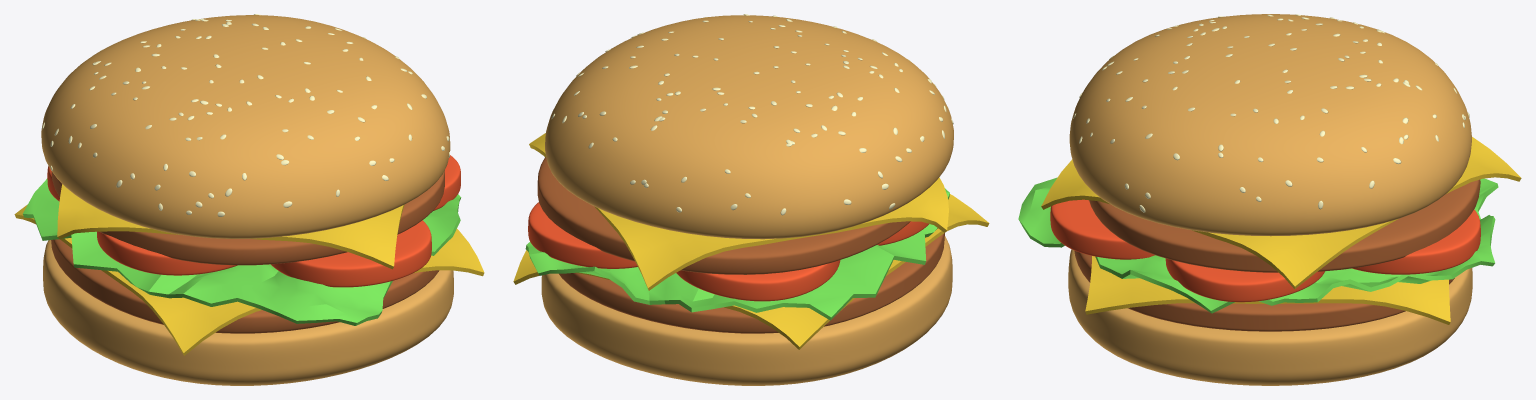
The model's file is hamburger-draco3.glb.
3 renders of one model, left to right at view 1: azimuth 30°, elevation 25°; view 2: azimuth 150°, elevation 25°; view 3: azimuth 270°, elevation 25°, orthographic.
Parts seen in each view (by area): view 1: Bread top, Bread bottom, Salad, Tomatos, Meat 2, Cheese 2, Cheese, Meat, Sesame seeds; view 2: Bread top, Bread bottom, Salad, Meat 2, Cheese 2, Meat, Tomatos, Cheese, Sesame seeds; view 3: Bread top, Bread bottom, Meat 2, Tomatos, Salad, Cheese 2, Meat, Cheese, Sesame seeds.
Boxes of the visible parts, left/top/right/bottom form: Bread top: left=41, top=15, right=450, bottom=238; Bread bottom: left=43, top=240, right=453, bottom=385; Salad: left=23, top=178, right=461, bottom=325; Tomatos: left=47, top=155, right=460, bottom=287; Meat 2: left=51, top=170, right=444, bottom=265; Cheese 2: left=57, top=184, right=404, bottom=269; Cheese: left=14, top=204, right=484, bottom=355; Meat: left=51, top=239, right=439, bottom=333; Sesame seeds: left=42, top=14, right=449, bottom=216; Bread top: left=545, top=15, right=953, bottom=239; Bread bottom: left=541, top=236, right=952, bottom=385; Salad: left=525, top=188, right=949, bottom=320; Meat 2: left=537, top=157, right=910, bottom=274; Cheese 2: left=529, top=133, right=948, bottom=290; Meat: left=559, top=233, right=944, bottom=333; Tomatos: left=528, top=202, right=928, bottom=301; Cheese: left=513, top=194, right=989, bottom=349; Sesame seeds: left=551, top=14, right=953, bottom=215; Bread top: left=1069, top=14, right=1471, bottom=236; Bread bottom: left=1068, top=249, right=1472, bottom=385; Meat 2: left=1089, top=179, right=1480, bottom=272; Tomatos: left=1050, top=199, right=1480, bottom=302; Salad: left=1018, top=177, right=1498, bottom=313; Cheese 2: left=1041, top=137, right=1521, bottom=289; Meat: left=1074, top=250, right=1454, bottom=331; Cheese: left=1085, top=256, right=1450, bottom=324; Sesame seeds: left=1073, top=14, right=1469, bottom=212.
Bounding box in the file's own units: 21.12 × 13.65 × 22.83.
